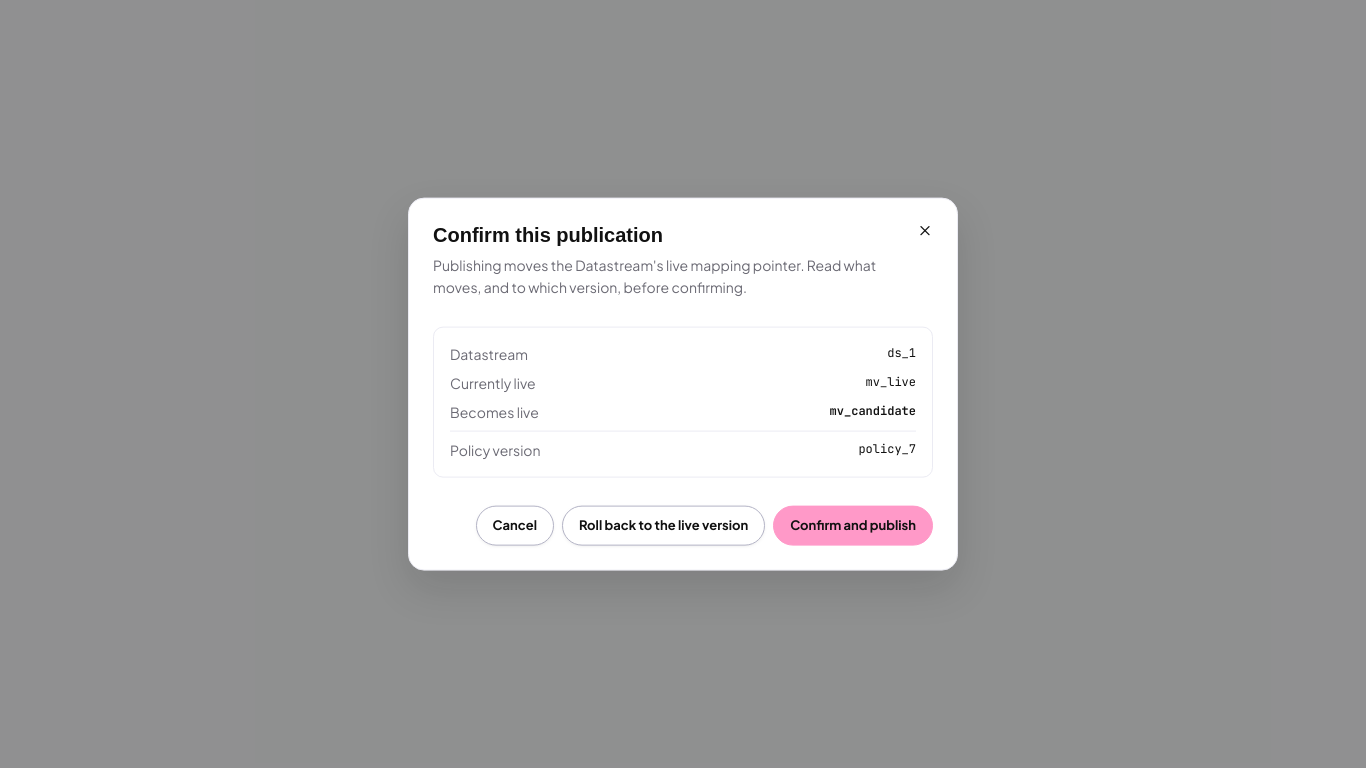
Test: Publication review › reports a refused publication instead of claiming it happened
Expected: the element with test id "publication-review" is shown, [433,326,933,477]
Click the button with test id "publication-confirm" at (853, 525), box [773,505,933,545]
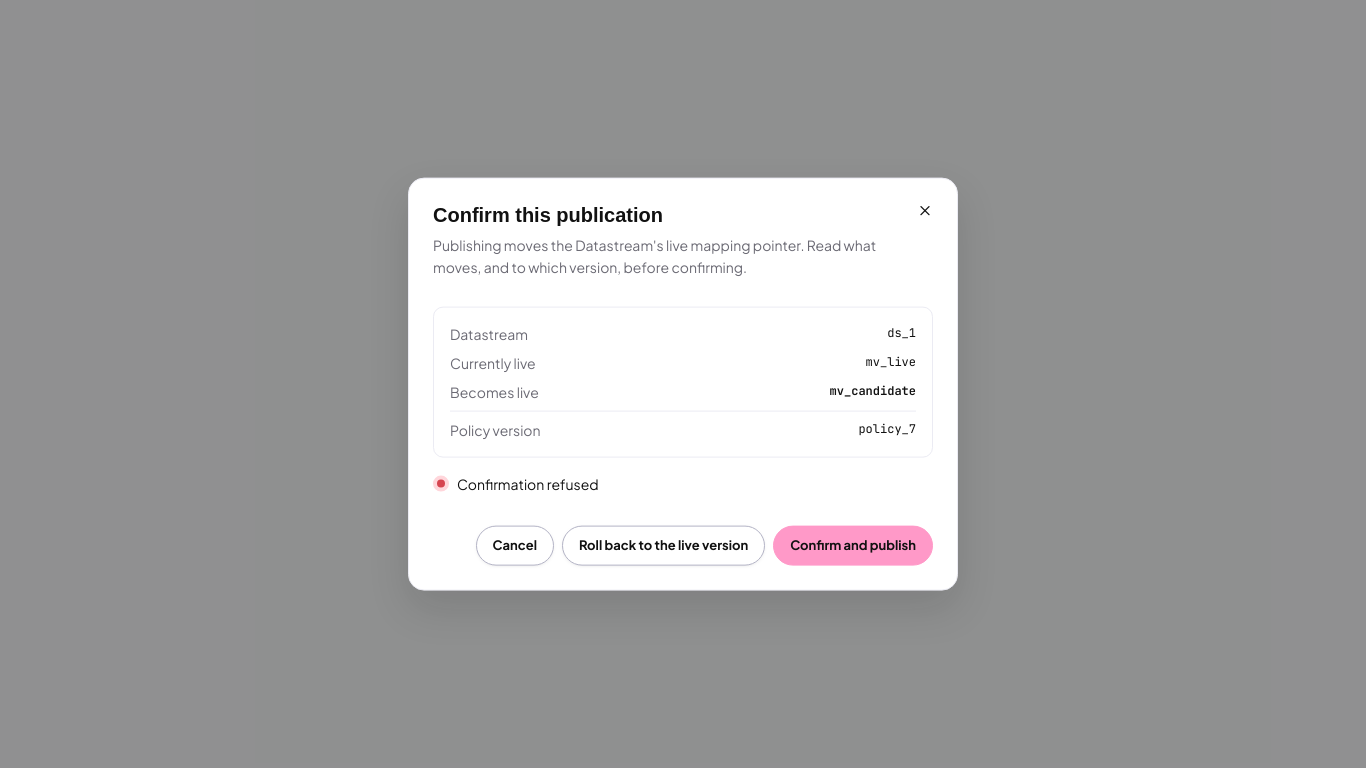
Expected: the element with test id "publication-review-error" reads "Confirmation refused", [457,474,599,492]
